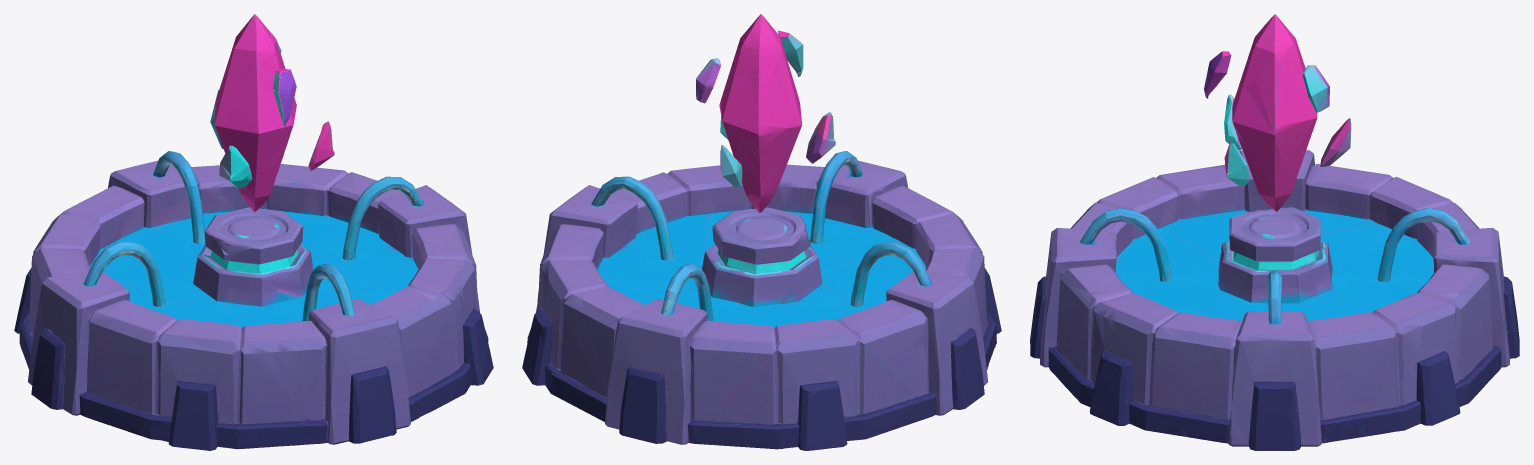
The model's file is fountain.glb.
3 renders of one model, left to right at view 1: azimuth 30°, elevation 25°; view 2: azimuth 150°, elevation 25°; view 3: azimuth 270°, elevation 25°, orthographic.
Parts seen in each view (by area): view 1: Mesh_0; view 2: Mesh_0; view 3: Mesh_0.
Boxes of the visible parts, x1,y1,x2,y2 form: Mesh_0: [14, 14, 493, 450]; Mesh_0: [522, 14, 1001, 450]; Mesh_0: [1030, 14, 1519, 450].
Bounding box in the file's own units: 1.9 × 1.43 × 1.9.
1 material, 1 textured.
